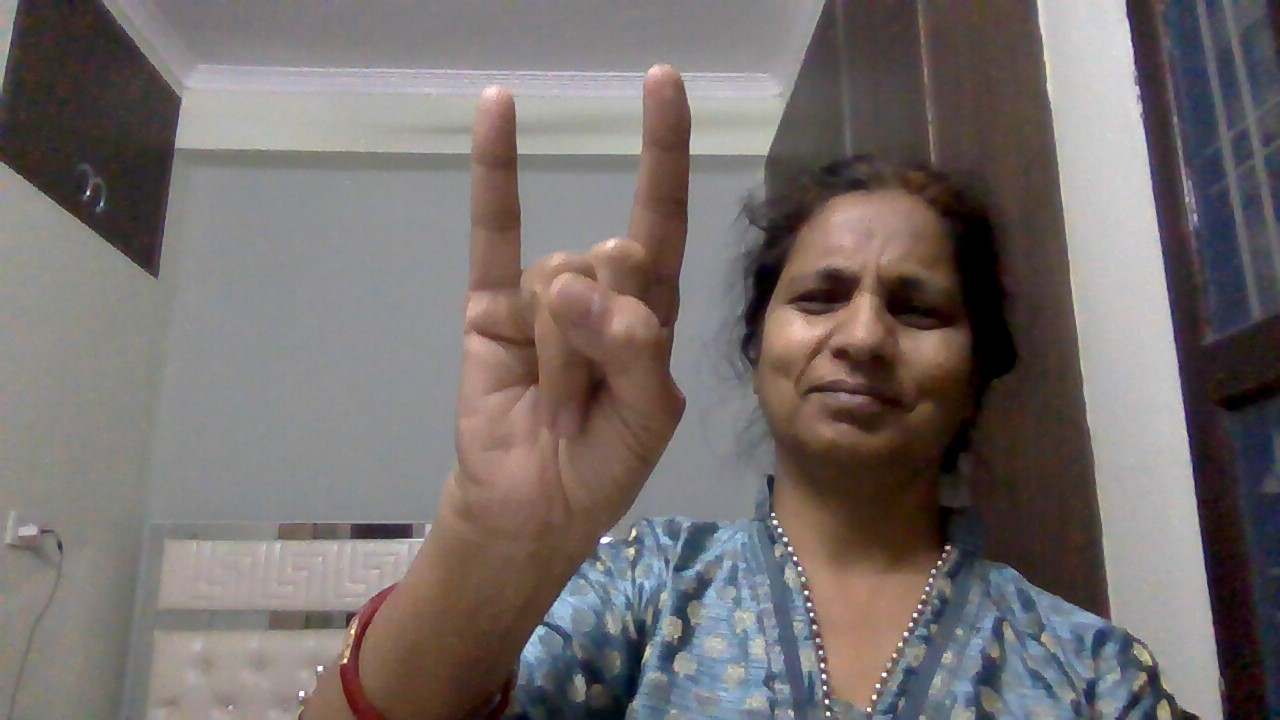Select All: (444, 60, 714, 567)
